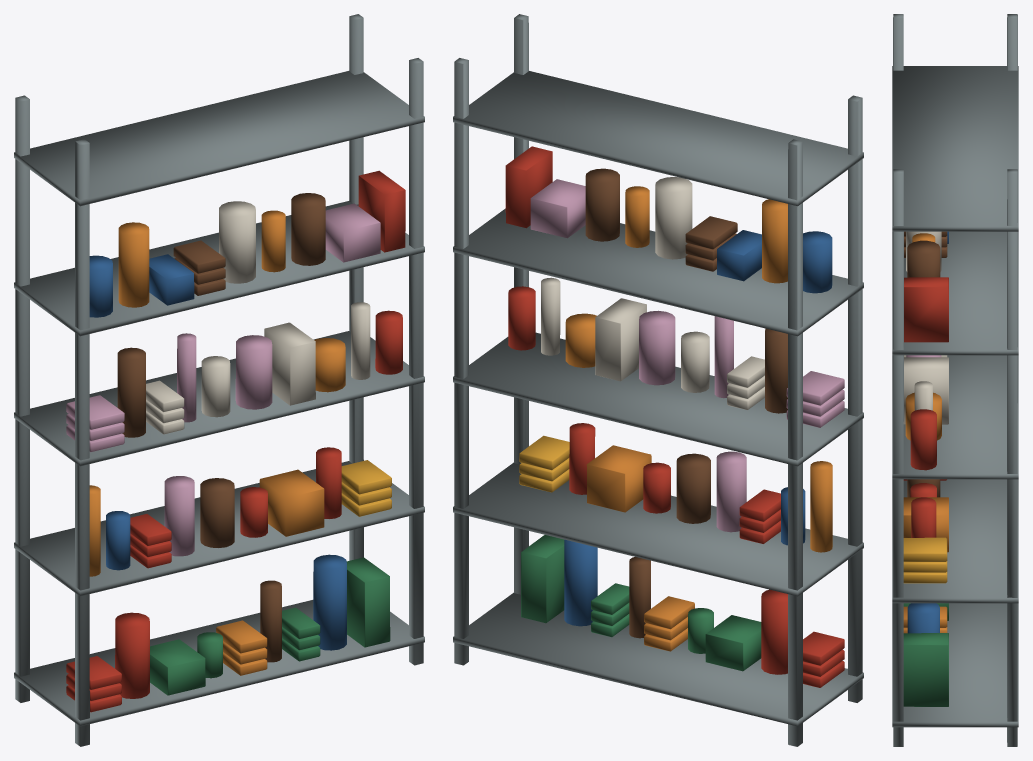
Rendered from ke_cao.glb.
3 renders of one model, left to right at view 1: azimuth 30°, elevation 25°; view 2: azimuth 150°, elevation 25°; view 3: azimuth 270°, elevation 25°, orthographic. The views are drawn at different scales.
Parts seen in each view (by area): view 1: ke_cao; view 2: ke_cao; view 3: ke_cao.
Boxes of the visible parts, x1,y1,x2,y2 form: ke_cao: (14,14,424,746); ke_cao: (453,14,863,746); ke_cao: (892,14,1018,746).
Bounding box in the file's own units: 1.2 × 2 × 0.3981.
